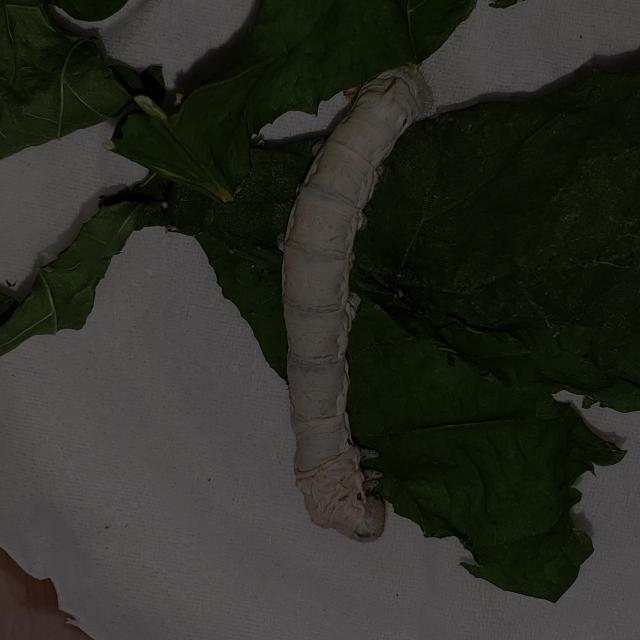Healthy: (222, 32, 516, 568)
